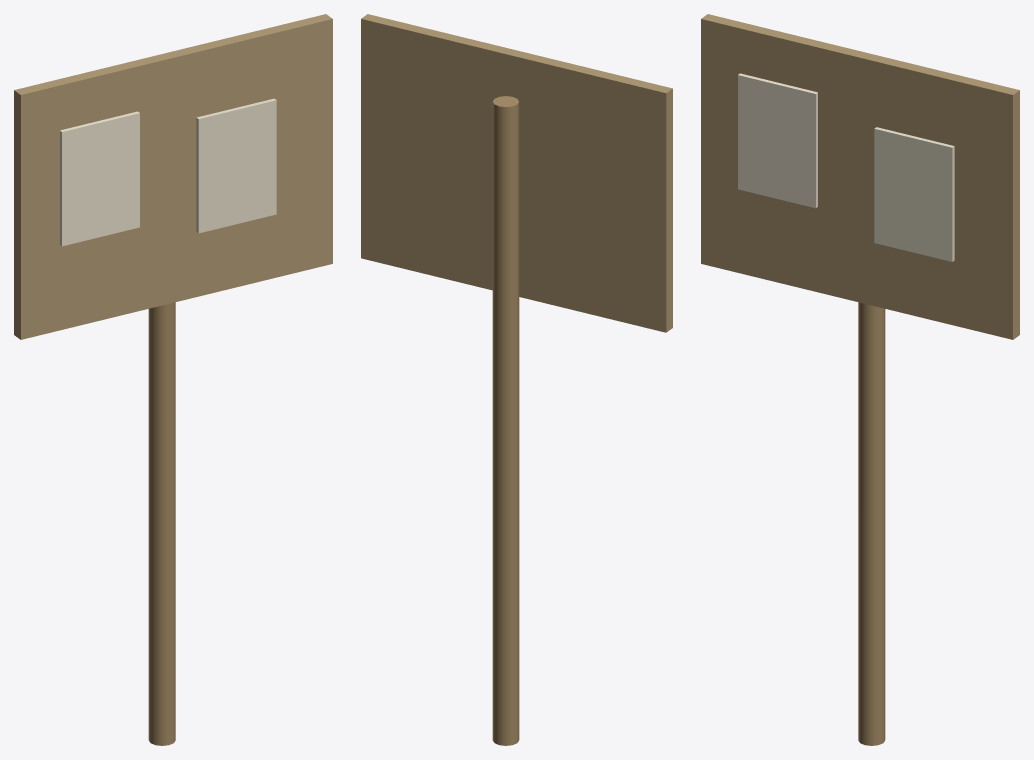
The model's file is env-ww-wanted.glb.
The picture shows the model from 3 angles, left to right: view 1: azimuth 30°, elevation 25°; view 2: azimuth 150°, elevation 25°; view 3: azimuth 330°, elevation 25°; orthographic projection. The views are drawn at different scales.
Bounding box in the file's own units: 0.8 × 1.7 × 0.105.
